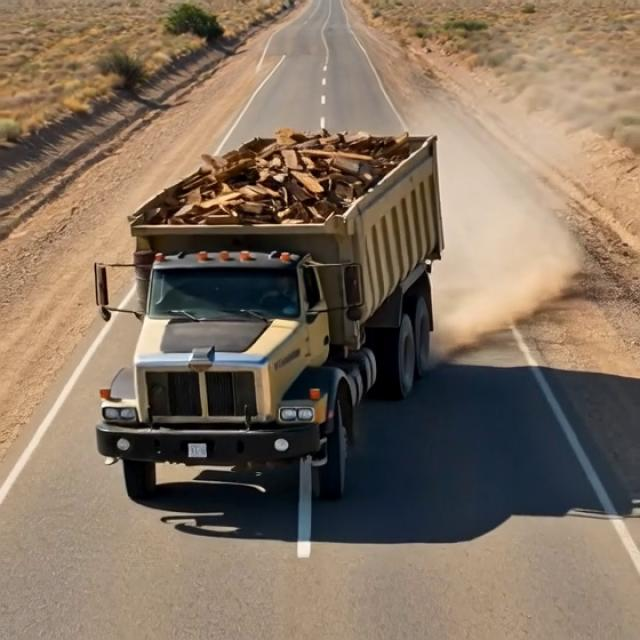trailer: (129, 127, 441, 252)
truck: (83, 108, 458, 508)
